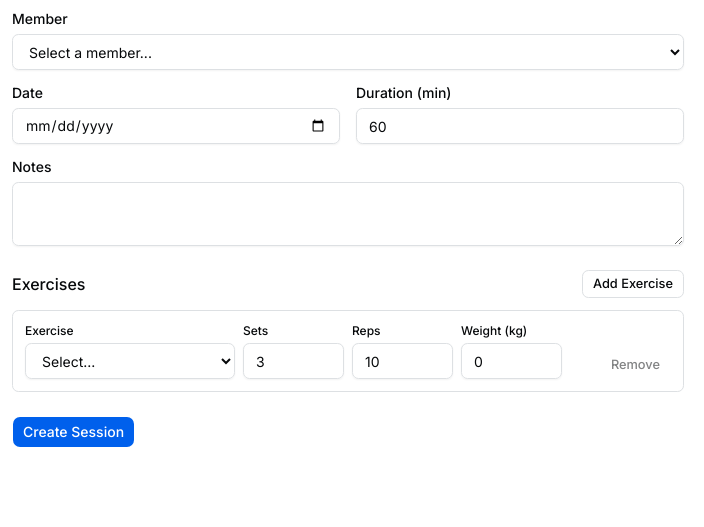
it: CreateWorkoutSessionForm › createWorkoutSessionForm_createFails_showsServerErrorAndDoesNotNavigate
Select "John Smith (john@example.com)" in the dropdown labelled "Member" at (348, 52), box [12,34,684,70]
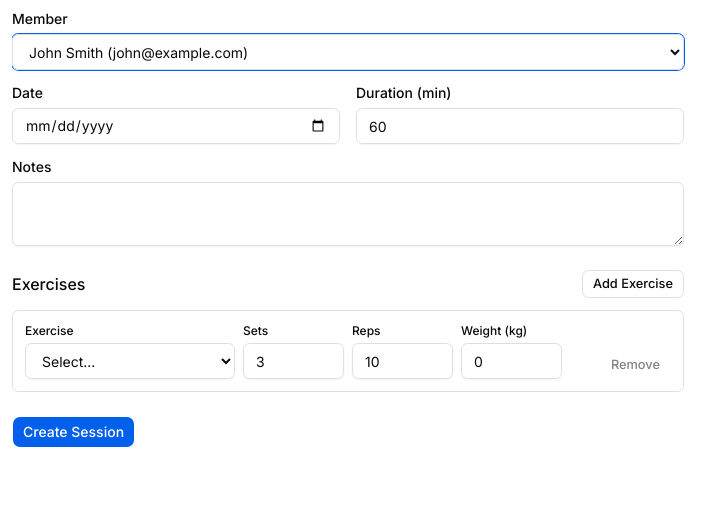
Type "2026-02-20" into the date field labelled "Date" at (176, 126), box [12,108,340,144]
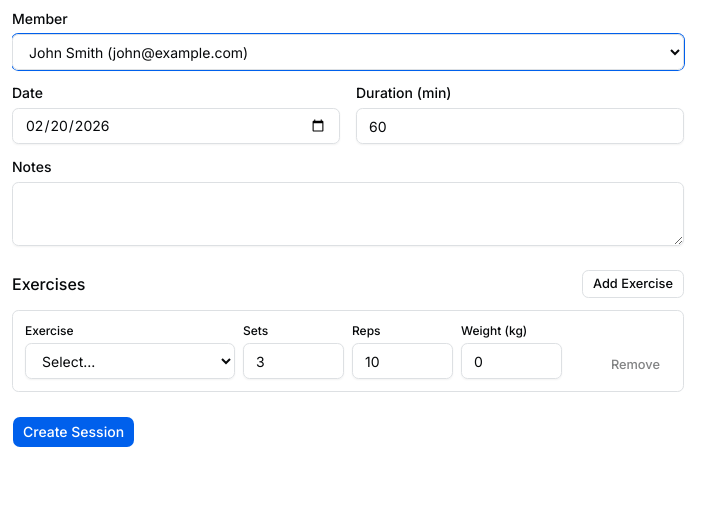
Replace the text in the field labelled "Duration (min)" with "45" at (520, 126), box [356,108,684,144]
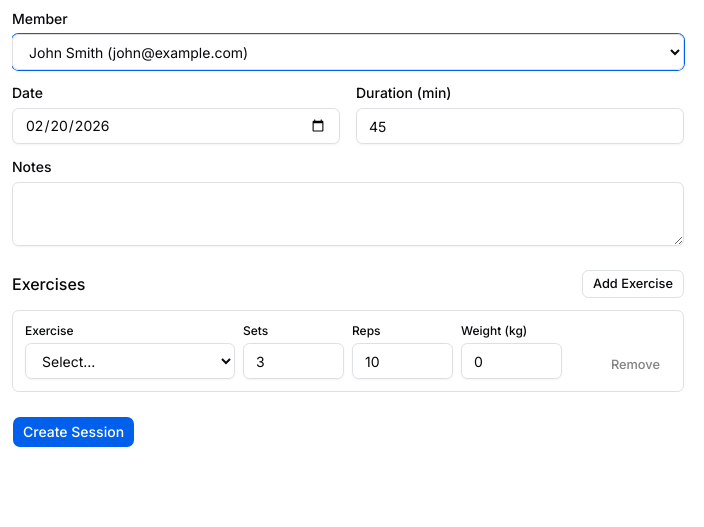
Type "Solid effort" into the text box labelled "Notes" at (348, 214), box [12,182,684,246]
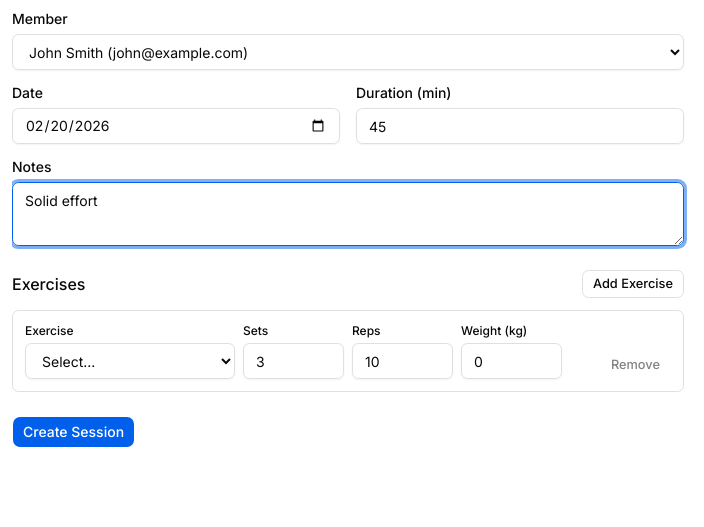
Select "Barbell Bench Press" in the 2nd dropdown at (130, 361), box [25,343,235,379]
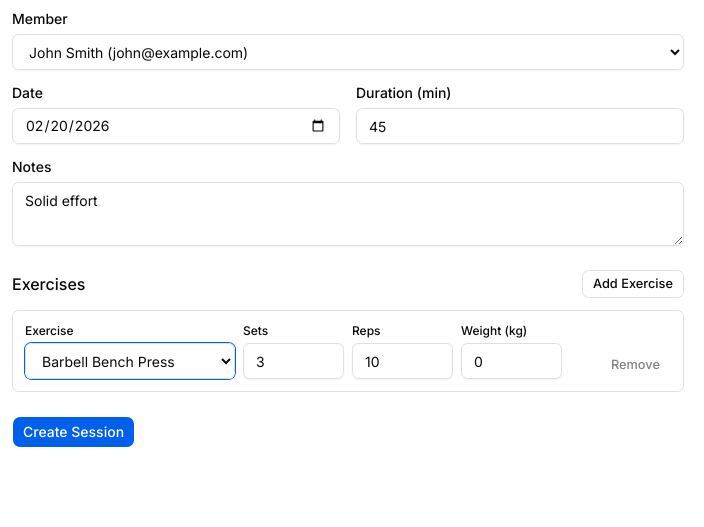
Click the button "Create Session" at (74, 432), box [12,416,135,448]
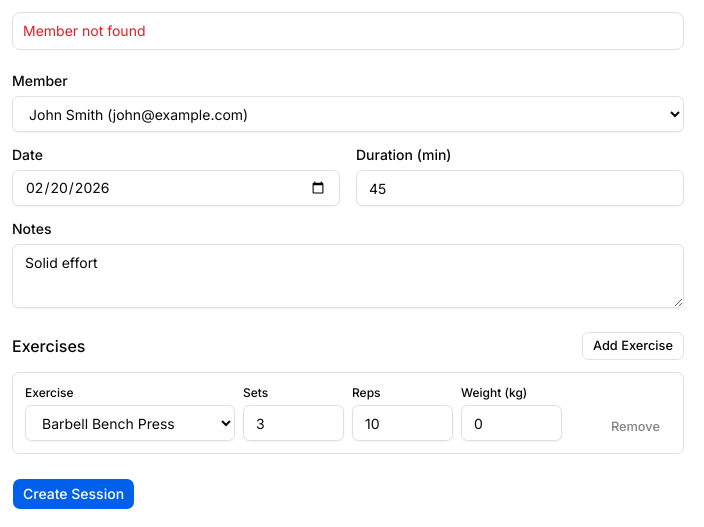
Expected: the button "Create Session" is enabled, [12,478,135,510]
Now the text "Member not found" is shown, box [23,22,146,39]
